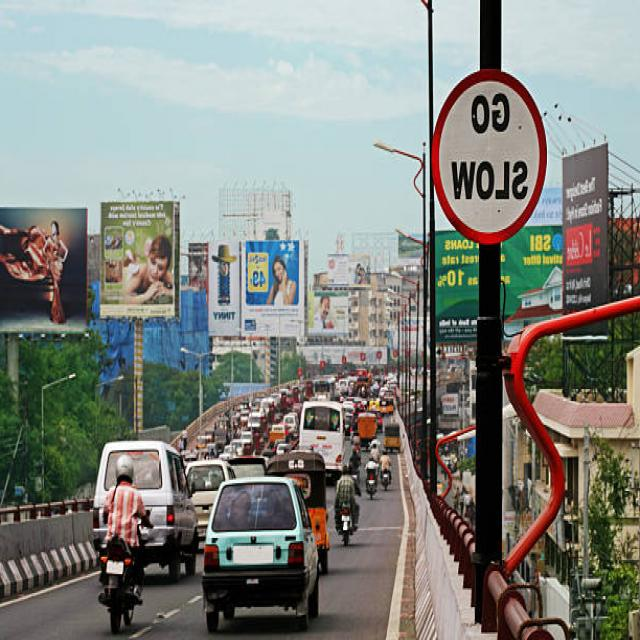Werbetafel frei: (436, 223, 574, 335), (0, 209, 88, 332), (221, 194, 291, 348), (98, 197, 179, 321), (561, 142, 605, 342), (241, 240, 305, 338), (308, 274, 370, 346), (209, 239, 239, 336), (329, 252, 372, 290), (186, 244, 208, 290), (398, 234, 428, 256), (404, 268, 421, 292), (404, 298, 420, 310)
